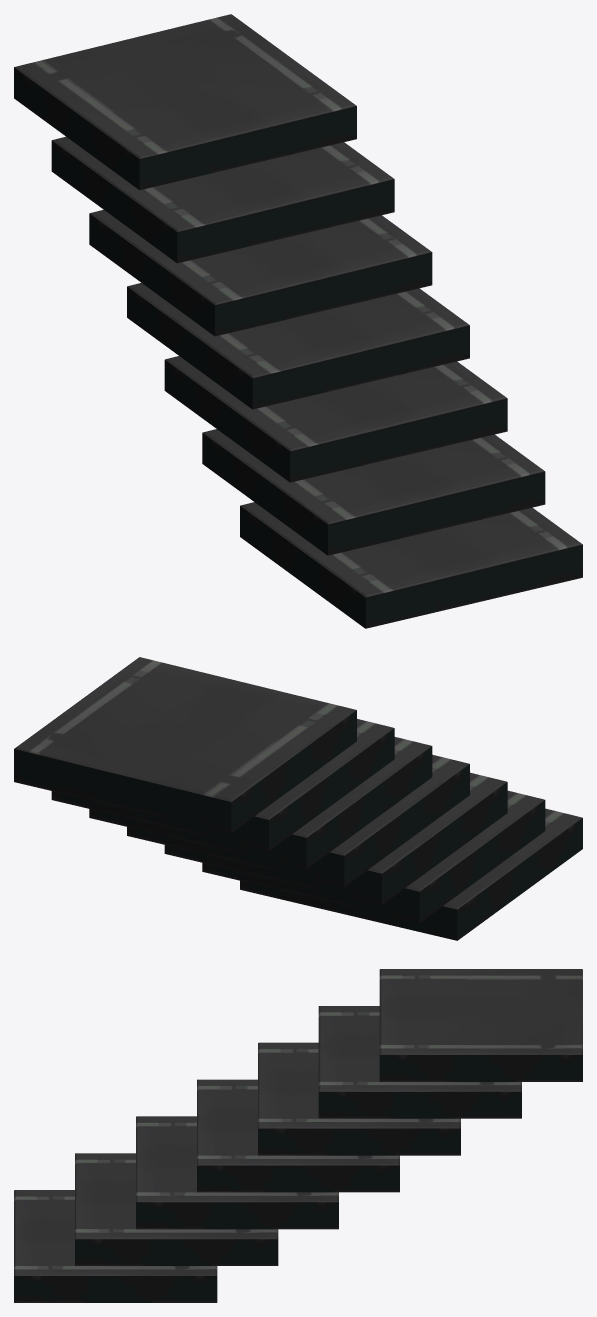
The model's file is tel_louti.glb.
3 views of the same model, one above another, from view 1: azimuth 30°, elevation 25°; view 2: azimuth 150°, elevation 25°; view 3: azimuth 270°, elevation 25° (orthographic). The views are drawn at different scales.
Parts seen in each view (by area): view 1: tel_louti; view 2: tel_louti; view 3: tel_louti.
Boxes of the visible parts, x1=… form: tel_louti: x1=14, y1=14, x2=582, y2=628; tel_louti: x1=14, y1=657, x2=582, y2=940; tel_louti: x1=14, y1=969, x2=582, y2=1302.
Bounding box in the file's own units: 100 × 135 × 280.
Materials: 1 (1 with a texture image).
